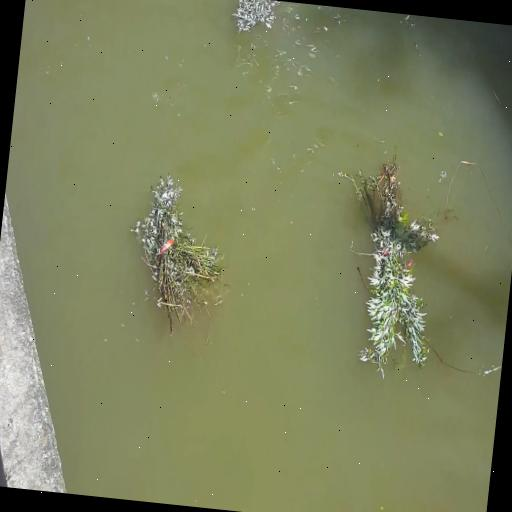twig: (322, 145, 453, 380), (124, 170, 238, 346), (226, 0, 286, 36)
